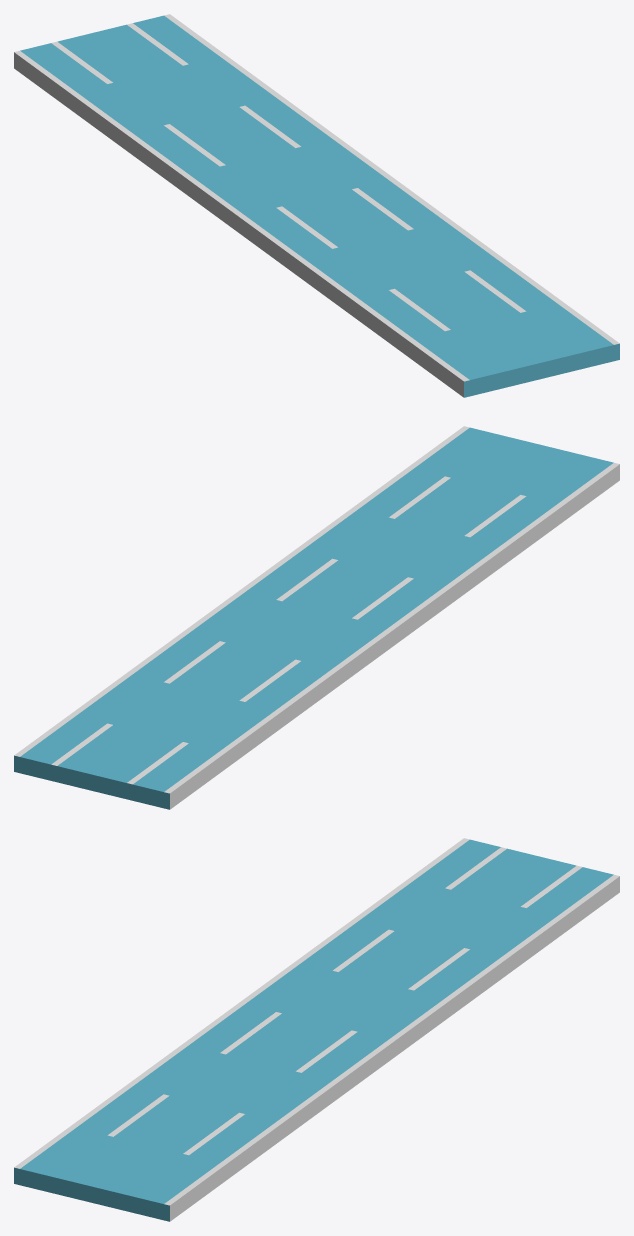
Rendered from road.fbx.
3 views of the same model, one above another, from view 1: azimuth 30°, elevation 25°; view 2: azimuth 150°, elevation 25°; view 3: azimuth 330°, elevation 25° (orthographic).
Visible parts, largest first — view 1: Cube; view 2: Cube; view 3: Cube.
Boxes of the visible parts, <box> form: Cube: <box>14,14,619,397</box>; Cube: <box>14,426,619,809</box>; Cube: <box>14,838,619,1221</box>.
Size of the model in its own units: 2000 by 200 by 10000.
